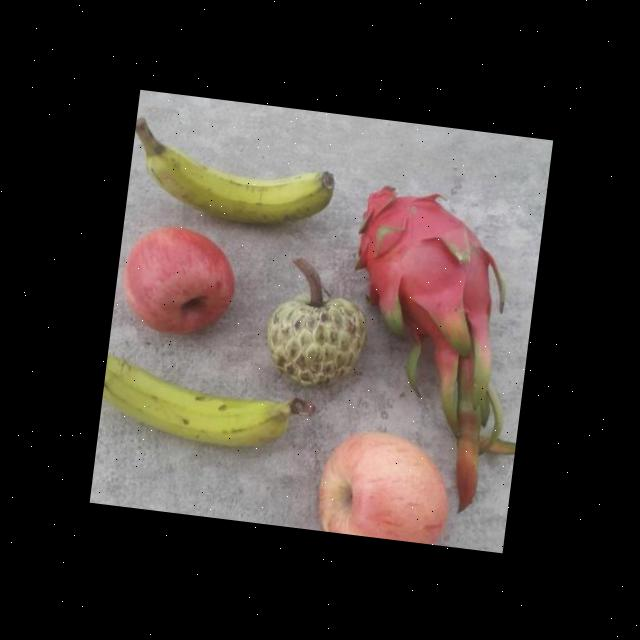Sakya fruit: (258, 282, 369, 396)
apple: (305, 422, 457, 544), (112, 218, 240, 344)
banana: (124, 112, 343, 236), (98, 344, 302, 454)
pitaya: (327, 180, 534, 486)
